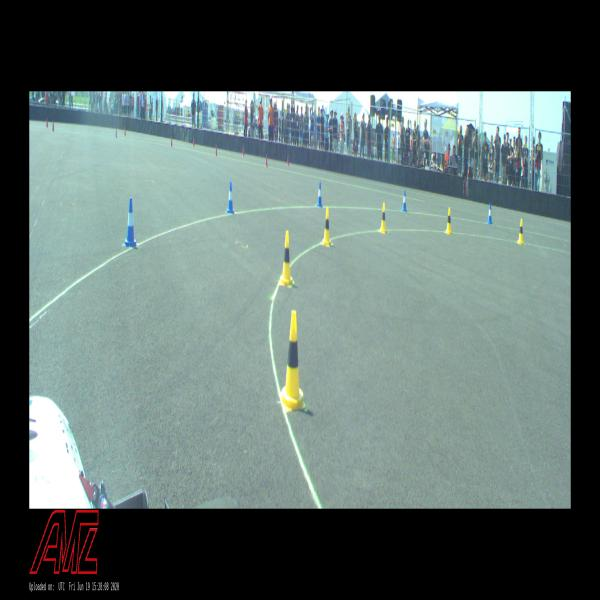blue_cone: (125, 198, 136, 246), (226, 182, 234, 214), (316, 181, 322, 207), (487, 204, 492, 224), (402, 190, 406, 212)
yellow_cone: (280, 311, 306, 412), (280, 231, 292, 285), (322, 208, 332, 246), (379, 203, 386, 233), (517, 218, 524, 244), (446, 208, 452, 234)
